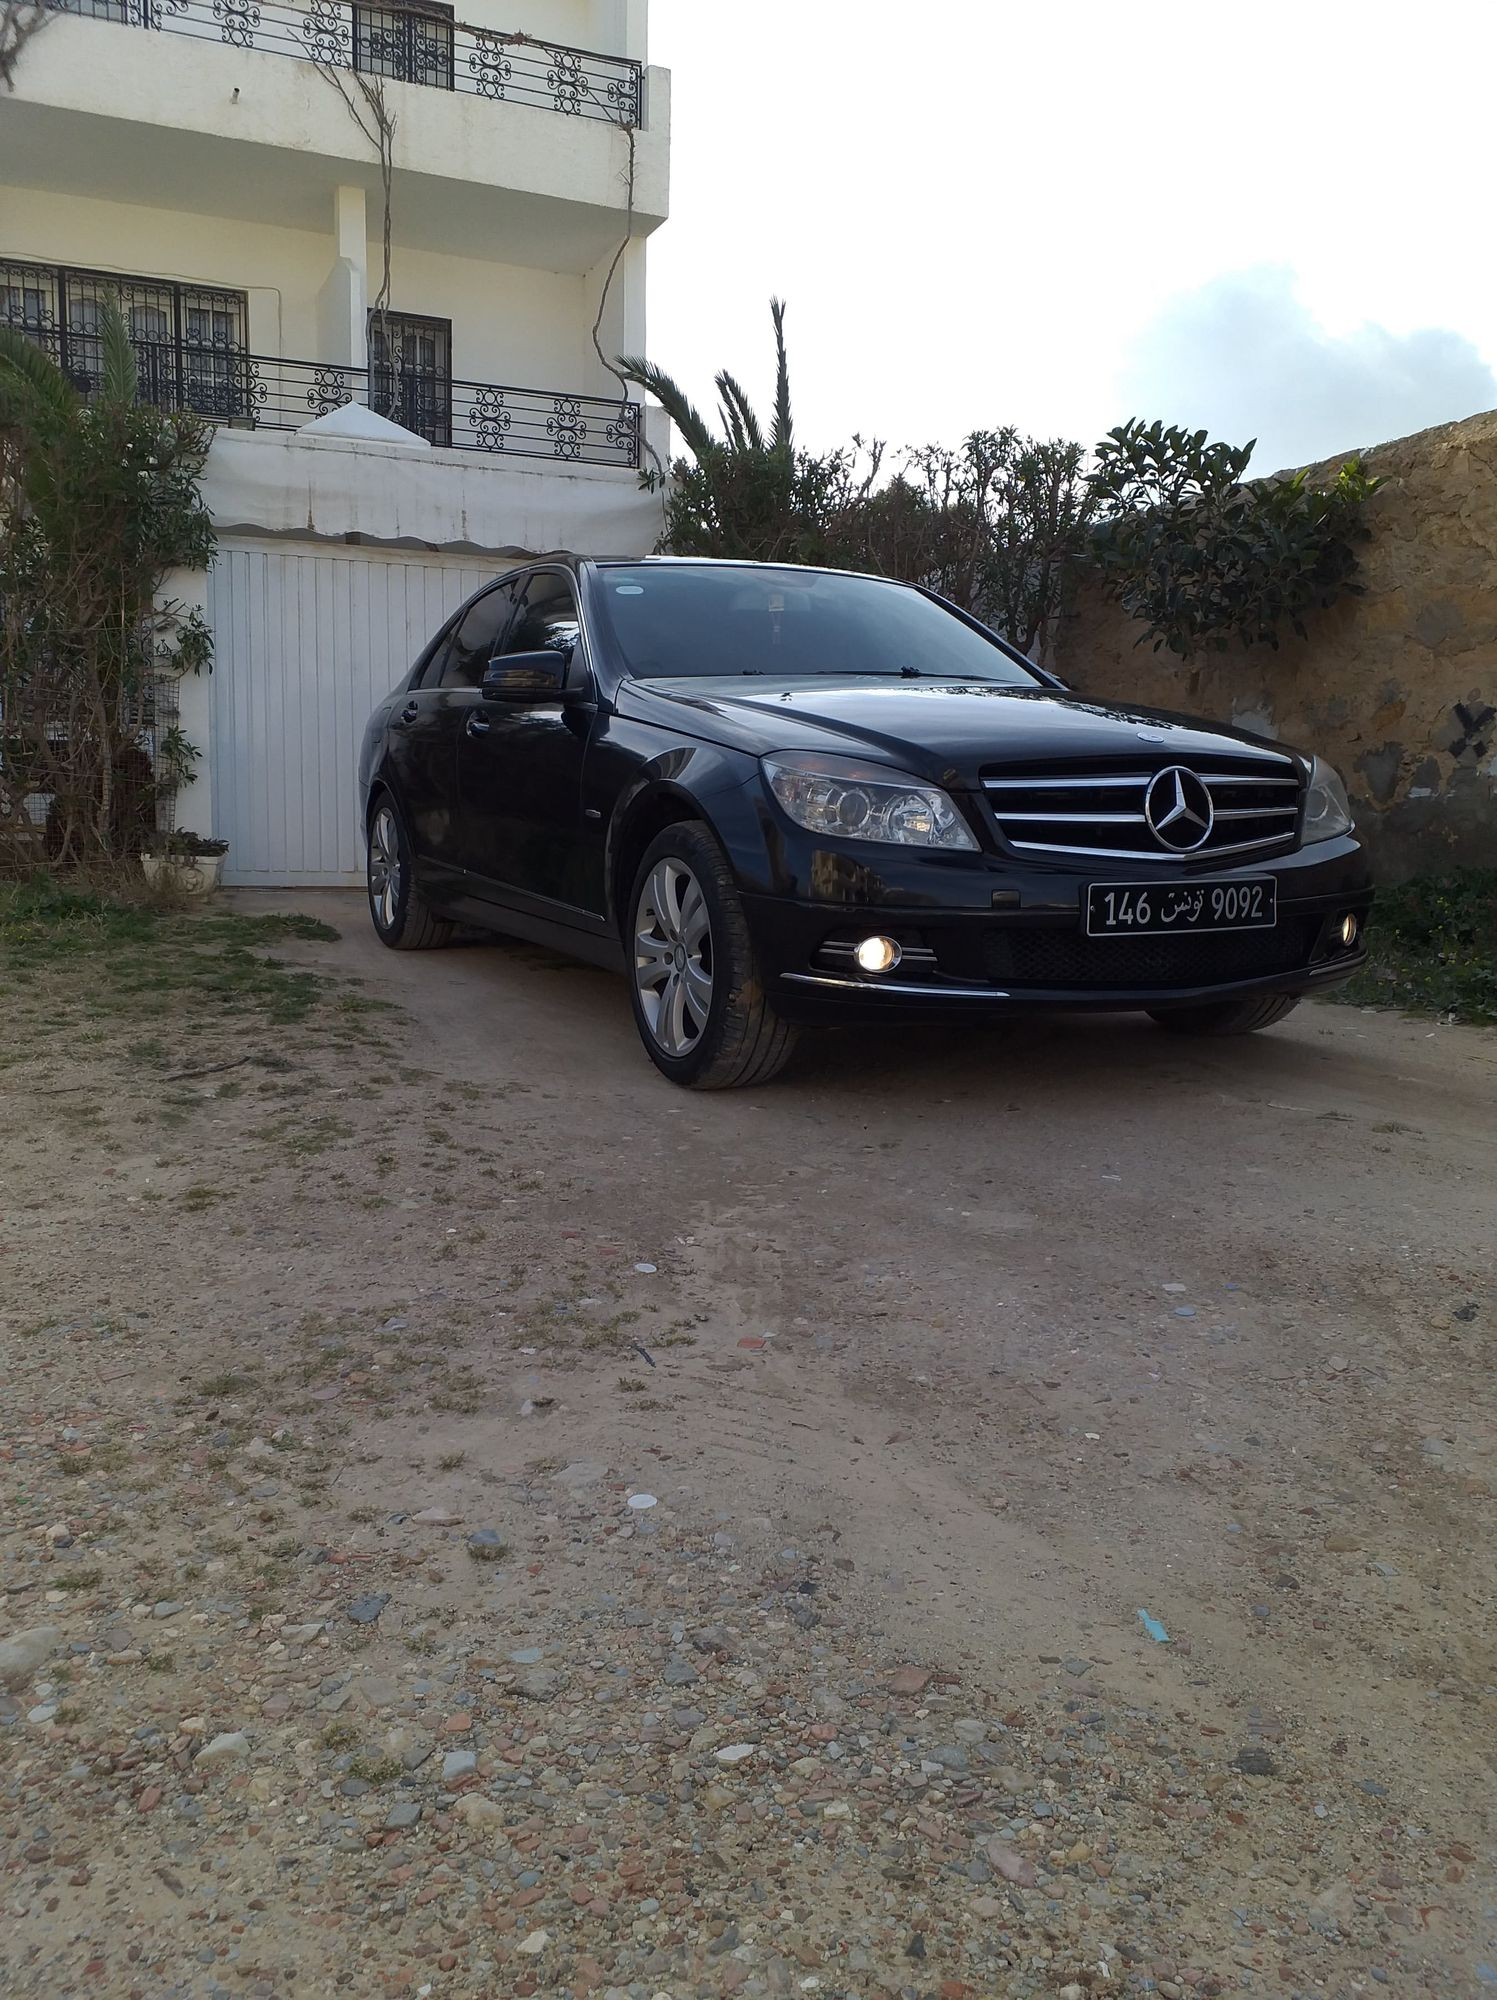LP: (1083, 874, 1280, 939)
